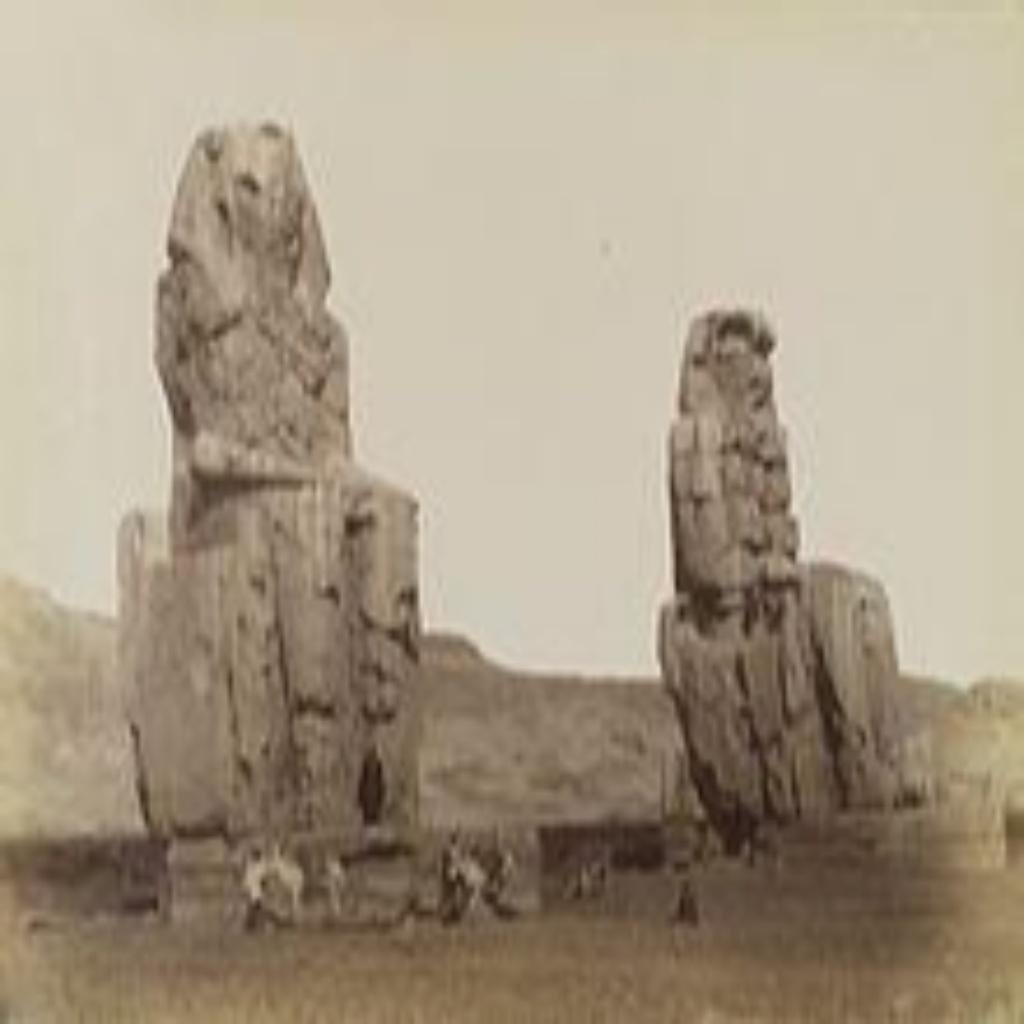Colossoi of Memnon: (108, 102, 438, 922), (652, 300, 942, 798)
